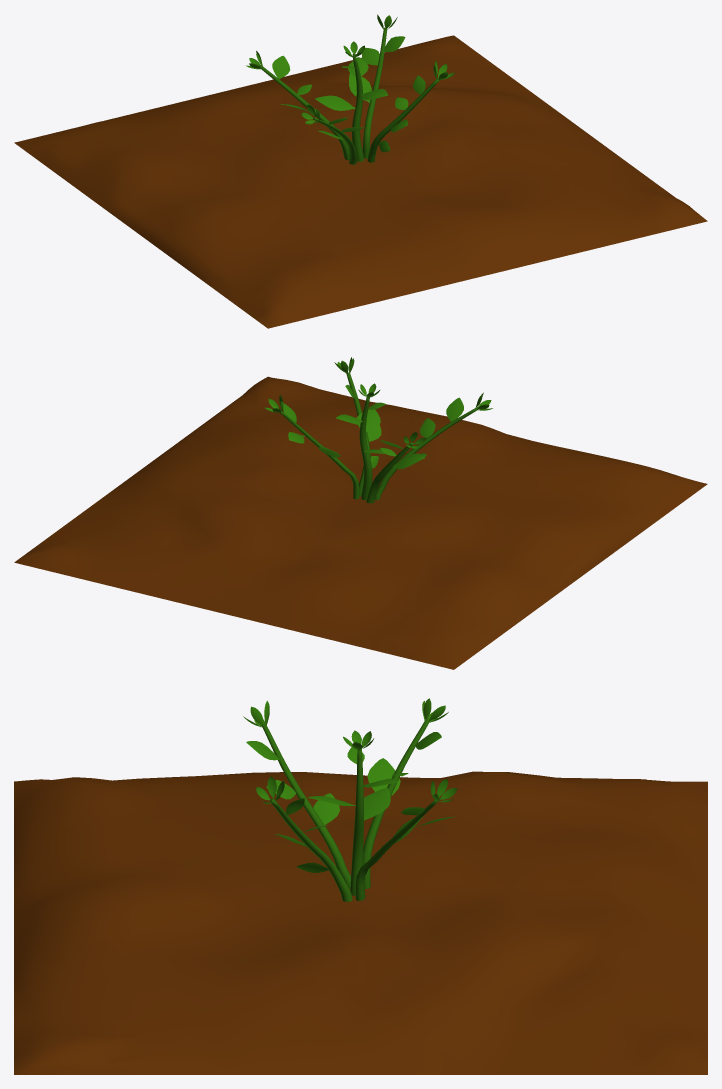
File: petunia-p1-bloom.glb
3 renders of one model, top to bottom at view 1: azimuth 30°, elevation 25°; view 2: azimuth 150°, elevation 25°; view 3: azimuth 270°, elevation 25°, orthographic. The views are drawn at different scales.
Parts seen in each view (by area): view 1: 1_nft_bloom; view 2: 1_nft_bloom; view 3: 1_nft_bloom.
Part boxes in pixels (x1=…): 1_nft_bloom: x1=14, y1=14, x2=707, y2=328; 1_nft_bloom: x1=14, y1=357, x2=707, y2=669; 1_nft_bloom: x1=14, y1=698, x2=707, y2=1074.
Bounding box in the file's own units: 0.7 × 0.2096 × 0.7.
